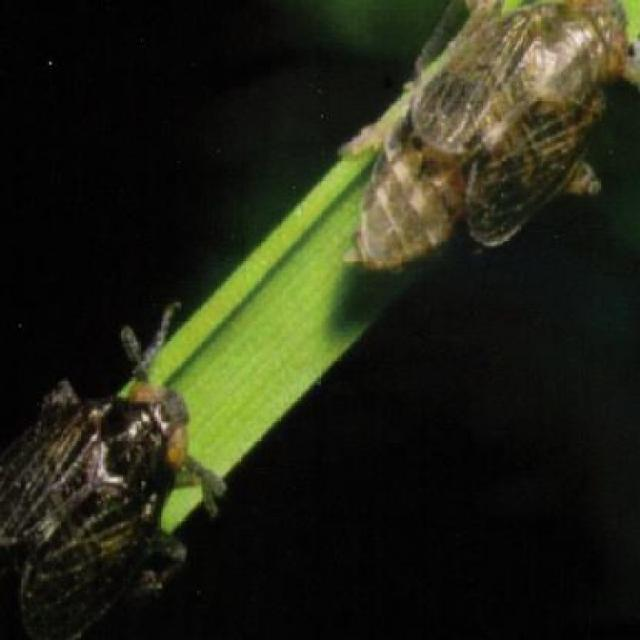brown-planthopper: (349, 0, 638, 272)
